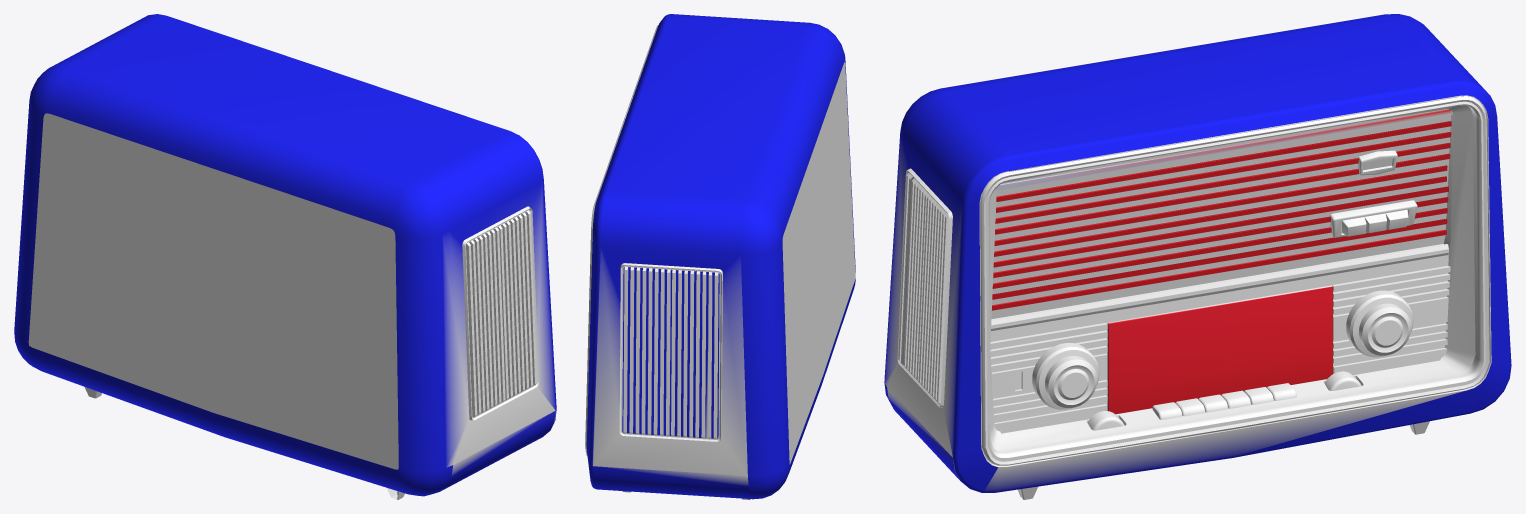
The model's file is Radio.fbx.
The picture shows the model from 3 angles, left to right: view 1: azimuth 30°, elevation 25°; view 2: azimuth 150°, elevation 25°; view 3: azimuth 270°, elevation 25°; orthographic projection. The views are drawn at different scales.
Parts seen in each view (by area): view 1: wood, palstic, rull, frame; view 2: wood, palstic, rull, frame; view 3: wood, palstic, top rurl, Display, down rurl, rull, volium contraller, fase bvar, down button, frame, face button, button frame (+2 smaller).
Boxes of the visible parts, x1,y1,x2,y2 form: wood: (14, 14, 556, 496); palstic: (28, 113, 404, 499); rull: (466, 210, 537, 417); frame: (462, 206, 538, 420); wood: (586, 14, 855, 499); palstic: (585, 25, 855, 499); rull: (622, 266, 719, 438); frame: (619, 263, 722, 441); wood: (884, 14, 1511, 492); palstic: (979, 95, 1491, 499); top rurl: (991, 109, 1452, 310); Display: (1107, 285, 1332, 414); down rurl: (990, 266, 1450, 433); rull: (898, 173, 948, 403); volium contraller: (1032, 290, 1413, 409); fase bvar: (991, 244, 1448, 330); down button: (1152, 383, 1296, 419); frame: (897, 168, 952, 407); face button: (1341, 210, 1408, 236); button frame: (1330, 200, 1417, 237).
Size of the model in its own units: 348 by 326 by 522.
